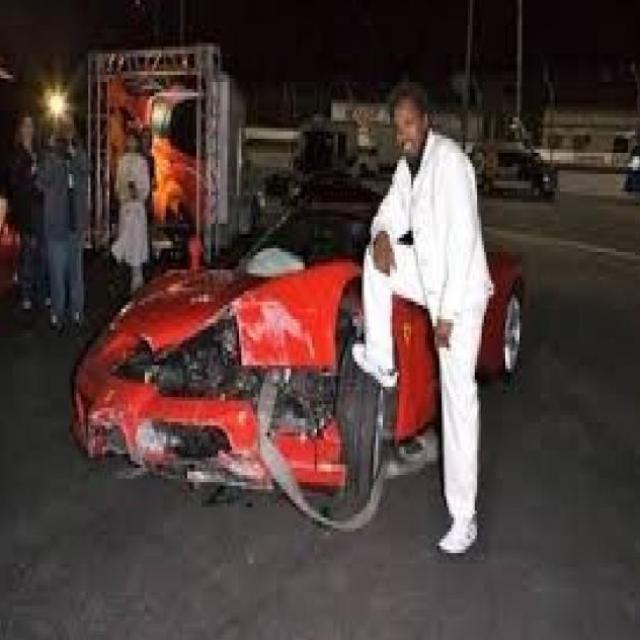accident: (83, 159, 395, 537)
